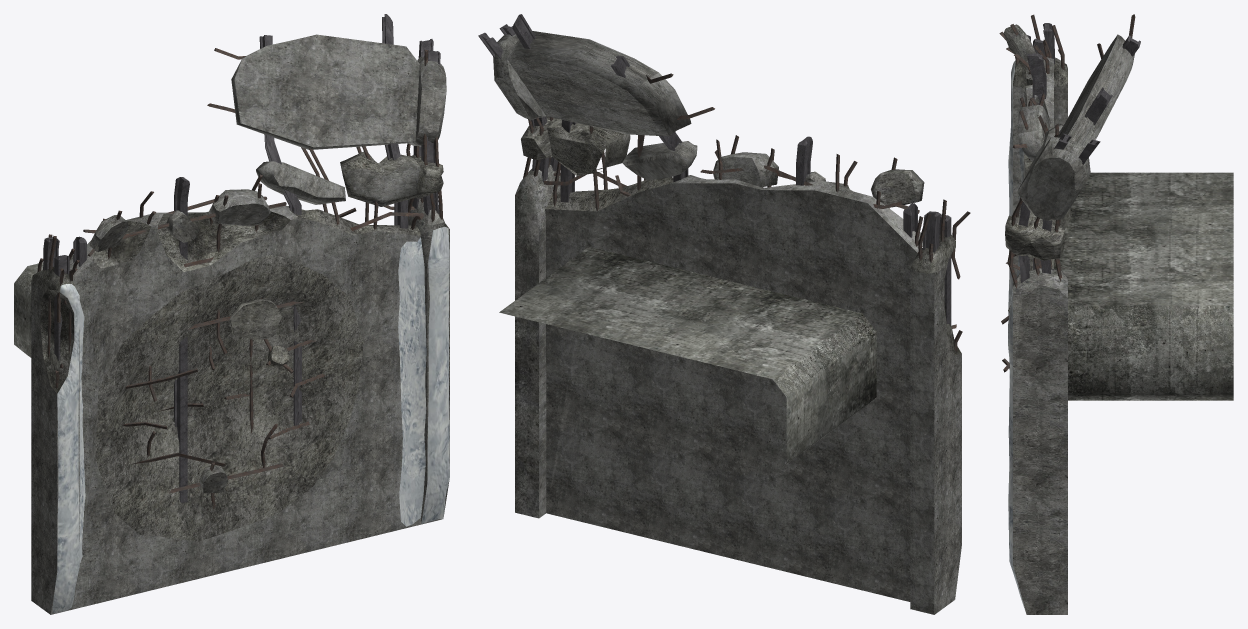
Rendered from gully_bridge_concrete01.glb.
The picture shows the model from 3 angles, left to right: view 1: azimuth 30°, elevation 25°; view 2: azimuth 150°, elevation 25°; view 3: azimuth 270°, elevation 25°; orthographic projection. The views are drawn at different scales.
Bounding box in the file's own units: 297 × 330 × 136.
Materials: 7 (7 with a texture image).
